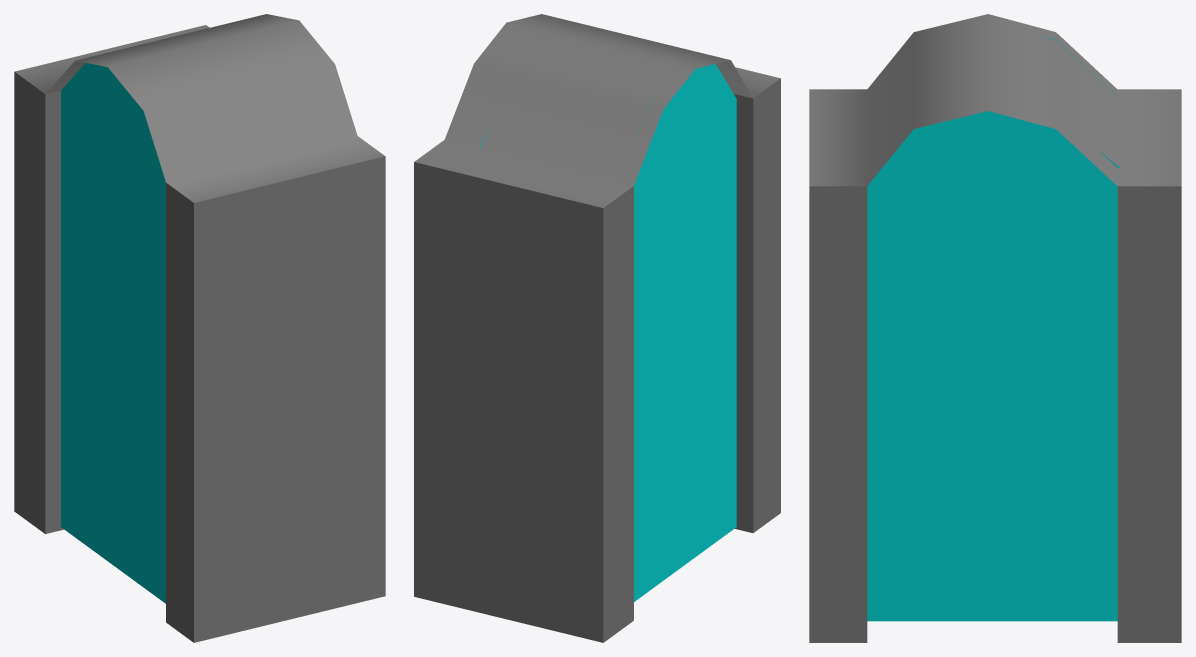
Rendered from gate_geo.fbx.
The picture shows the model from 3 angles, left to right: view 1: azimuth 30°, elevation 25°; view 2: azimuth 150°, elevation 25°; view 3: azimuth 270°, elevation 25°; orthographic projection. The views are drawn at different scales.
Visible parts, largest first — view 1: gate1; view 2: gate1; view 3: gate1.
Part boxes in pixels (x1=…): gate1: x1=14, y1=14, x2=385, y2=642; gate1: x1=414, y1=14, x2=780, y2=642; gate1: x1=809, y1=14, x2=1181, y2=642.
Size of the model in its own units: 7.86 by 20.1 by 12.76.
